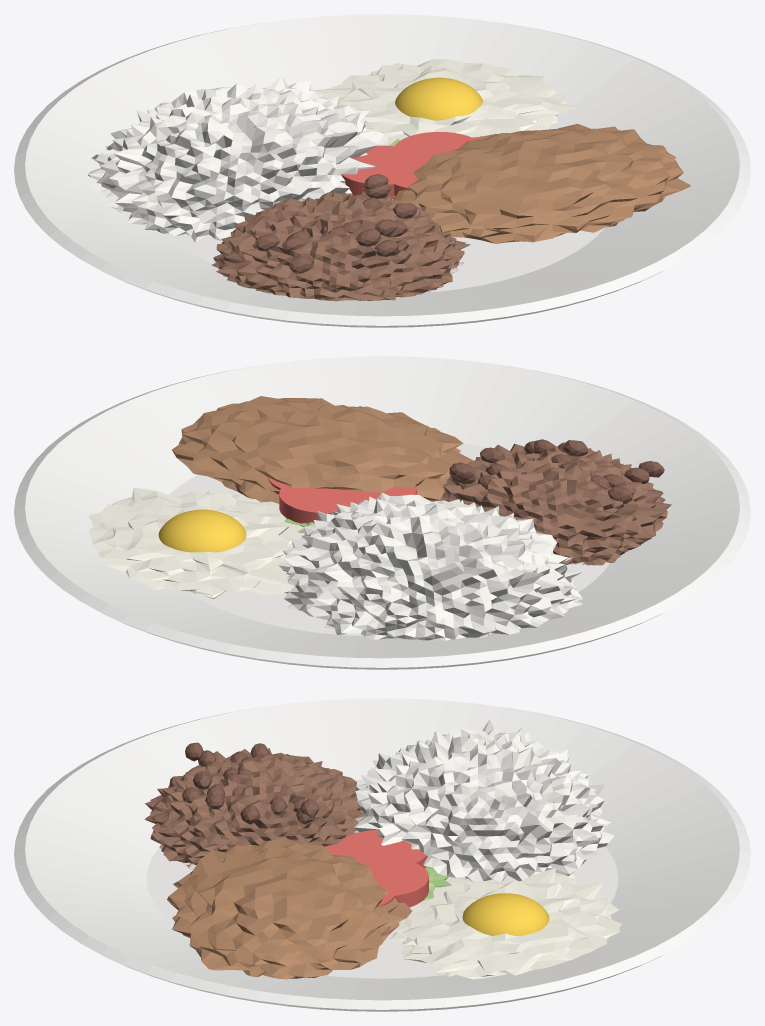
File: prato-feito.glb
The picture shows the model from 3 angles, top to bottom: view 1: azimuth 30°, elevation 25°; view 2: azimuth 150°, elevation 25°; view 3: azimuth 270°, elevation 25°; orthographic projection.
Visible parts, largest first — view 1: prato-feito_0, prato-feito_1, prato-feito_21, prato-feito_2, prato-feito_22, prato-feito_23, prato-feito_24, prato-feito_26, prato-feito_25; view 2: prato-feito_0, prato-feito_1, prato-feito_21, prato-feito_2, prato-feito_22, prato-feito_23, prato-feito_26; view 3: prato-feito_0, prato-feito_1, prato-feito_21, prato-feito_2, prato-feito_22, prato-feito_23, prato-feito_26, prato-feito_24, prato-feito_25.
Part boxes in pixels (x1,y1,x2,y2): prato-feito_0: [14, 14, 750, 327]; prato-feito_1: [88, 76, 387, 246]; prato-feito_21: [393, 124, 690, 243]; prato-feito_2: [212, 191, 470, 301]; prato-feito_22: [310, 59, 577, 145]; prato-feito_23: [395, 77, 482, 120]; prato-feito_24: [341, 145, 427, 199]; prato-feito_26: [393, 132, 475, 168]; prato-feito_25: [381, 150, 444, 196]; prato-feito_0: [14, 356, 750, 669]; prato-feito_1: [277, 492, 582, 640]; prato-feito_21: [172, 396, 472, 503]; prato-feito_2: [429, 443, 671, 565]; prato-feito_22: [88, 487, 303, 599]; prato-feito_23: [158, 509, 246, 552]; prato-feito_26: [279, 485, 371, 523]; prato-feito_0: [14, 698, 750, 1011]; prato-feito_1: [353, 719, 614, 882]; prato-feito_21: [167, 838, 412, 979]; prato-feito_2: [144, 748, 364, 869]; prato-feito_22: [389, 868, 621, 979]; prato-feito_23: [462, 893, 549, 935]; prato-feito_26: [357, 857, 428, 907]; prato-feito_24: [336, 829, 427, 868]; prato-feito_25: [324, 843, 395, 879].
Size of the model in its own units: 0.27 by 0.0425 by 0.27.
